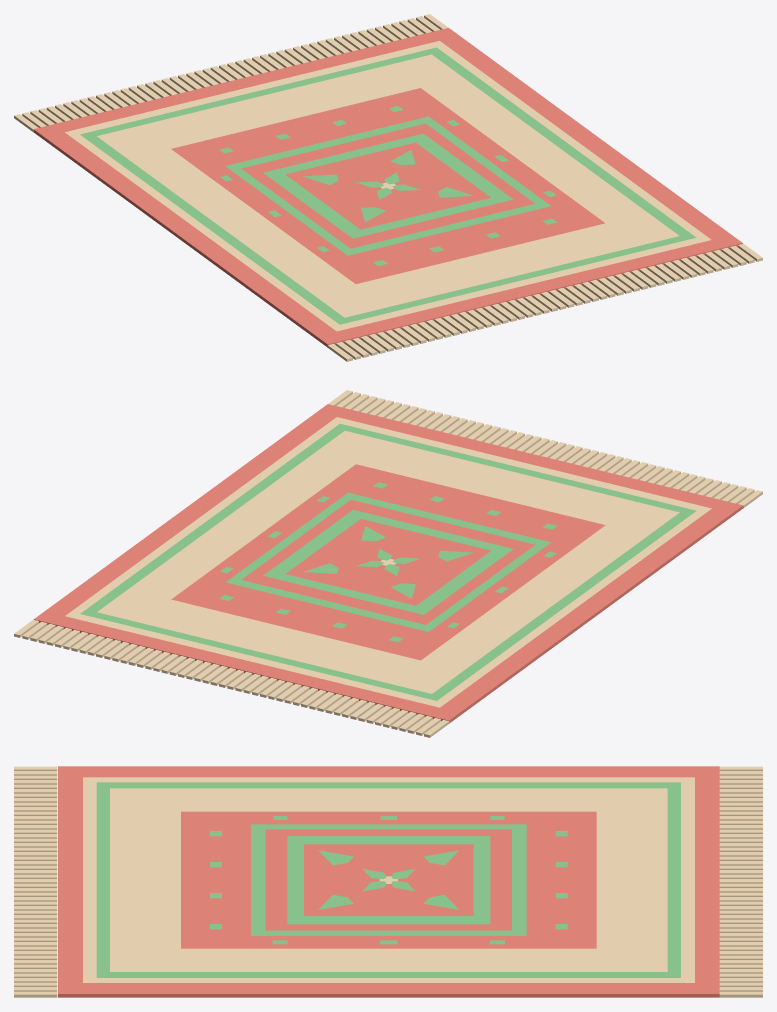
The model's file is paklajs.gltf.
3 renders of one model, top to bottom at view 1: azimuth 30°, elevation 25°; view 2: azimuth 150°, elevation 25°; view 3: azimuth 270°, elevation 25°, orthographic. The views are drawn at different scales.
Parts seen in each view (by area): view 1: Oriental_Rug_Cube; view 2: Oriental_Rug_Cube; view 3: Oriental_Rug_Cube.
Part boxes in pixels (x1,y1,x2,y2): Oriental_Rug_Cube: [14, 14, 762, 361]; Oriental_Rug_Cube: [14, 390, 762, 737]; Oriental_Rug_Cube: [14, 766, 762, 997].
Size of the model in its own units: 7.16 by 0.0527 by 9.92.
